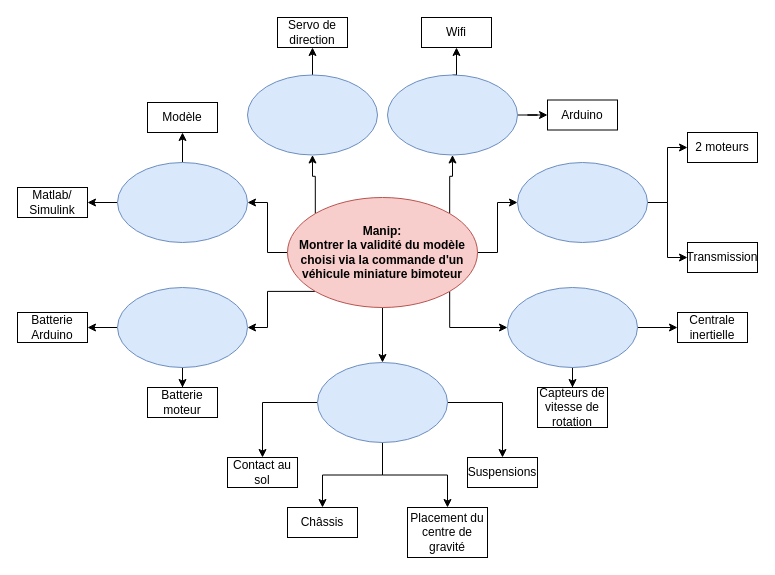
Image size: 775x575. Some labels were removed from this diagram. Each missing label, with the centre of its shape:
"Assurer l'alimentation des éléments consommateurs" belongs at [182,327].
"Assurer la propulsion de la voiture" belongs at [582,202].
"Calculer la consigne à appliquer aux moteurs" belongs at [182,202].
"Pouvoir commander la voiture à distance" belongs at [452,114].
"Pouvoir connaître les grandeurs nécessaires à la validation du modèle" belongs at [572,327].
"Pouvoir tester différents cas d'utilisation" belongs at [312,114].
"Rendre compte des comportements réels de la voiture" belongs at [382,402].
